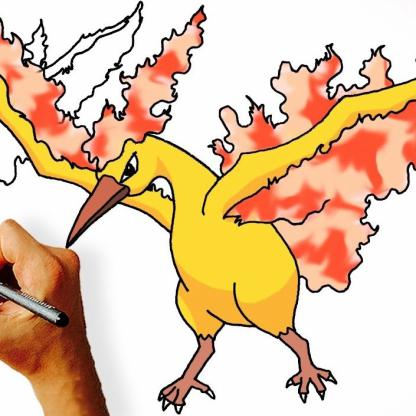Moltres: (1, 16, 416, 408)
